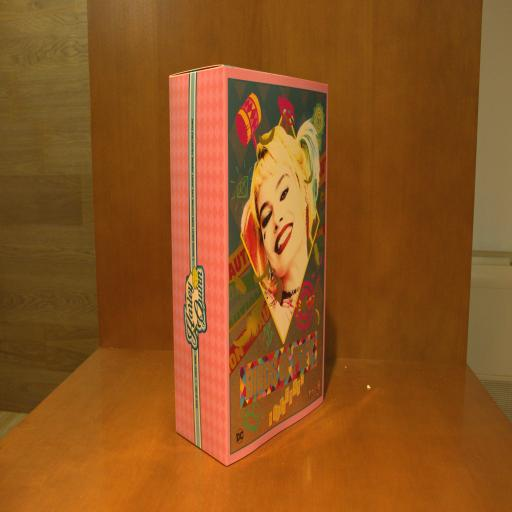Harley: (169, 65, 329, 463)
